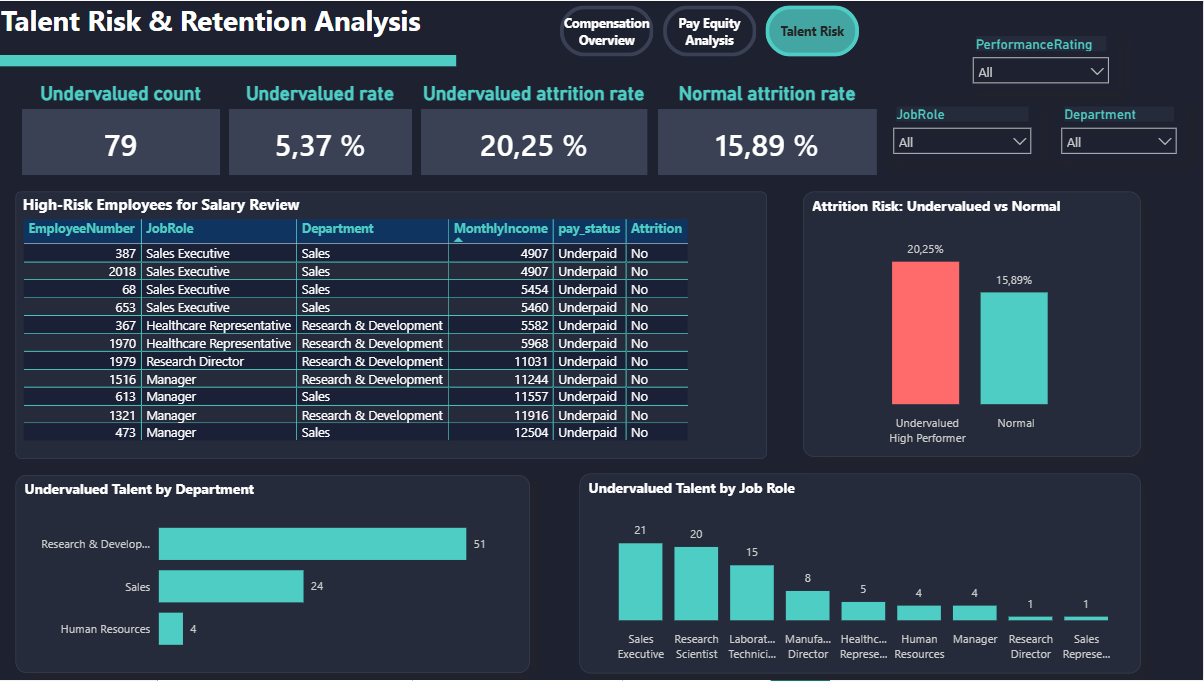

The page's visual inventory and layout, read from the dashboard file:
{"tool":"powerbi","page":{"name":"Talent Risk","canvas":[1280,720],"ordinal":2},"visuals":[{"type":"textbox","title":"Talent Risk & Retention Analysis","box":[0,0,640,58],"z":0},{"type":"cardVisual","title":"Undervalued count","fields":{"Data":["_Measures.Undervalued Count"]},"box":[22,86,220,104],"z":1000},{"type":"cardVisual","title":"Undervalued rate","fields":{"Data":["_Measures.Undervalued Rate"]},"box":[242,86,204,104],"z":2000},{"type":"cardVisual","title":"Undervalued attrition rate","fields":{"Data":["_Measures.Undervalued Attrition Rate"]},"box":[446,86,250,104],"z":3000},{"type":"cardVisual","title":"Normal attrition rate","fields":{"Data":["_Measures.Normal Attrition Rate"]},"box":[696,86,242,104],"z":4000},{"type":"barChart","title":"Undervalued Talent by Department","fields":{"Y":["_Measures.Undervalued Count"],"Category":["HR_Compensation.Department"]},"box":[20.7,502.6,545.6,210],"z":5000},{"type":"columnChart","title":"Undervalued Talent by Job Role","fields":{"Category":["HR_Compensation.JobRole"],"Y":["_Measures.Undervalued Count"]},"box":[618.3,501.7,595,211.7],"z":6000},{"type":"clusteredColumnChart","title":"Attrition Risk: Undervalued vs Normal","fields":{"Category":["HR_Compensation.talent_value_flag"],"Y":["_Measures.Overall Attrition Rate"]},"box":[855.7,202,357.9,281.5],"z":7000},{"type":"tableEx","title":"High-Risk Employees for Salary Review","fields":{"Values":["HR_Compensation.EmployeeNumber","HR_Compensation.JobRole","HR_Compensation.Department","HR_Compensation.MonthlyIncome","HR_Compensation.pay_status","HR_Compensation.Attrition"]},"box":[20.7,202,796.9,283.1],"z":8000},{"type":"slicer","fields":{"Values":["HR_Compensation.Department"]},"box":[1120,106,142,62],"z":9000},{"type":"slicer","fields":{"Values":["HR_Compensation.PerformanceRating"]},"box":[1026,32,164,64],"z":10000},{"type":"slicer","fields":{"Values":["HR_Compensation.JobRole"]},"box":[942,106,166,62],"z":11000},{"type":"shape","box":[0,58,488,12],"z":14000},{"type":"pageNavigator","title":"page 1 ","box":[598,4,318,54],"z":15000}]}

Visuals, with their boxes in screenshot pixels (x1, y1, x2, y2), scaled from the page's 1280x720 canvas onto the 1204x681 screenshot:
"Talent Risk & Retention Analysis" textbox: BBox(0, 0, 602, 55)
"Undervalued count" cardVisual: BBox(21, 81, 228, 180)
"Undervalued rate" cardVisual: BBox(228, 81, 420, 180)
"Undervalued attrition rate" cardVisual: BBox(420, 81, 655, 180)
"Normal attrition rate" cardVisual: BBox(655, 81, 882, 180)
"Undervalued Talent by Department" barChart: BBox(19, 475, 533, 674)
"Undervalued Talent by Job Role" columnChart: BBox(582, 475, 1141, 675)
"Attrition Risk: Undervalued vs Normal" clusteredColumnChart: BBox(805, 191, 1142, 457)
"High-Risk Employees for Salary Review" tableEx: BBox(19, 191, 769, 459)
slicer - HR_Compensation.Department: BBox(1054, 100, 1187, 159)
slicer - HR_Compensation.PerformanceRating: BBox(965, 30, 1119, 91)
slicer - HR_Compensation.JobRole: BBox(886, 100, 1042, 159)
shape: BBox(0, 55, 459, 66)
"page 1 " pageNavigator: BBox(562, 4, 862, 55)
